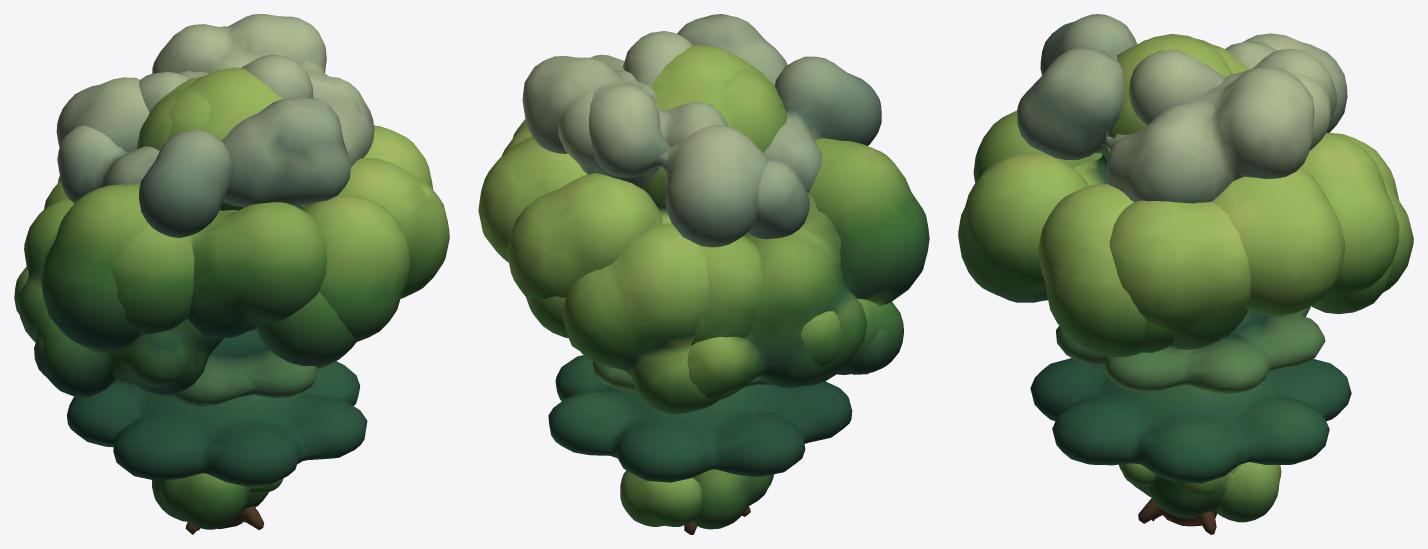
The model's file is trees.glb.
3 renders of one model, left to right at view 1: azimuth 30°, elevation 25°; view 2: azimuth 150°, elevation 25°; view 3: azimuth 270°, elevation 25°, orthographic. The views are drawn at different scales.
Parts seen in each view (by area): view 1: tree_oak2_canopy, tree_pine1_canopy, tree_euc1_canopy, tree_oak3_canopy, tree_oak1_canopy, tree_euc2_canopy, tree_bush2_canopy; view 2: tree_oak2_canopy, tree_oak1_canopy, tree_euc1_canopy, tree_pine1_canopy, tree_oak3_canopy, tree_euc2_canopy, tree_bush1_canopy, tree_bush2_canopy; view 3: tree_pine1_canopy, tree_euc1_canopy, tree_oak2_canopy, tree_oak1_canopy, tree_oak3_canopy, tree_euc2_canopy, tree_bush1_canopy, tree_bush2_canopy, tree_bush3_canopy, tree_oak2_trunk.
Boxes of the visible parts, x1,y1,x2,y2 form: tree_oak2_canopy: (14, 158, 449, 377); tree_pine1_canopy: (67, 329, 367, 486); tree_euc1_canopy: (56, 14, 374, 207); tree_oak3_canopy: (18, 76, 410, 342); tree_oak1_canopy: (33, 67, 433, 397); tree_euc2_canopy: (57, 26, 313, 237); tree_bush2_canopy: (152, 473, 268, 529); tree_oak2_canopy: (478, 136, 929, 414); tree_oak1_canopy: (502, 45, 903, 374); tree_euc1_canopy: (522, 14, 787, 247); tree_pine1_canopy: (548, 232, 852, 482); tree_oak3_canopy: (526, 68, 867, 400); tree_euc2_canopy: (558, 31, 881, 239); tree_bush1_canopy: (620, 470, 702, 526); tree_bush2_canopy: (692, 469, 773, 529); tree_pine1_canopy: (1030, 306, 1351, 483); tree_euc1_canopy: (1017, 33, 1347, 203); tree_oak2_canopy: (973, 110, 1413, 357); tree_oak1_canopy: (1000, 36, 1399, 349); tree_oak3_canopy: (958, 34, 1393, 352); tree_euc2_canopy: (1040, 14, 1330, 150); tree_bush1_canopy: (1184, 462, 1281, 522); tree_bush2_canopy: (1119, 464, 1240, 518); tree_bush3_canopy: (1120, 463, 1155, 486); tree_oak2_trunk: (1138, 498, 1217, 532).
Size of the model in its own units: 3.51 by 3.98 by 3.38.
